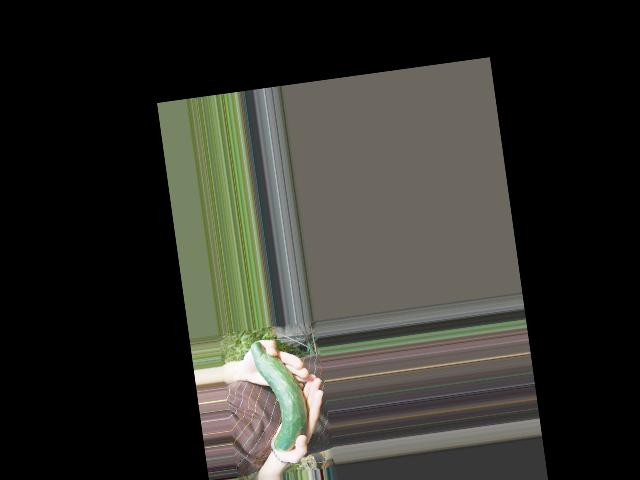cucumber: (250, 336, 312, 454)
